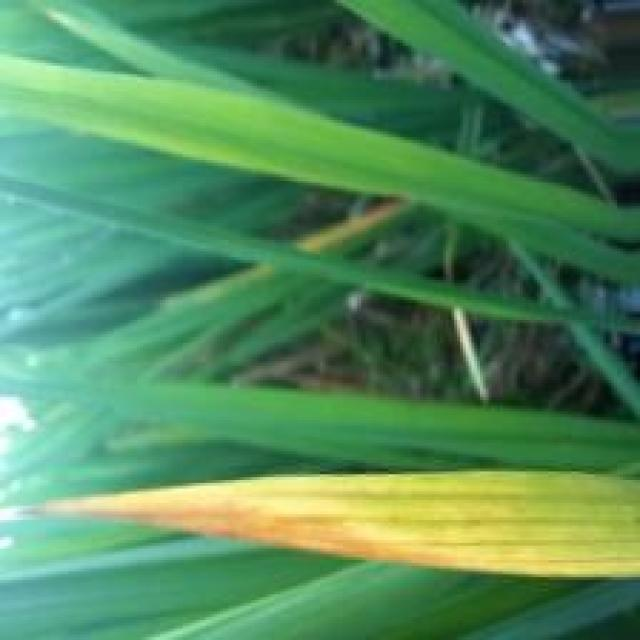Bacterial_Leaf_Blight: (106, 495, 465, 565)
